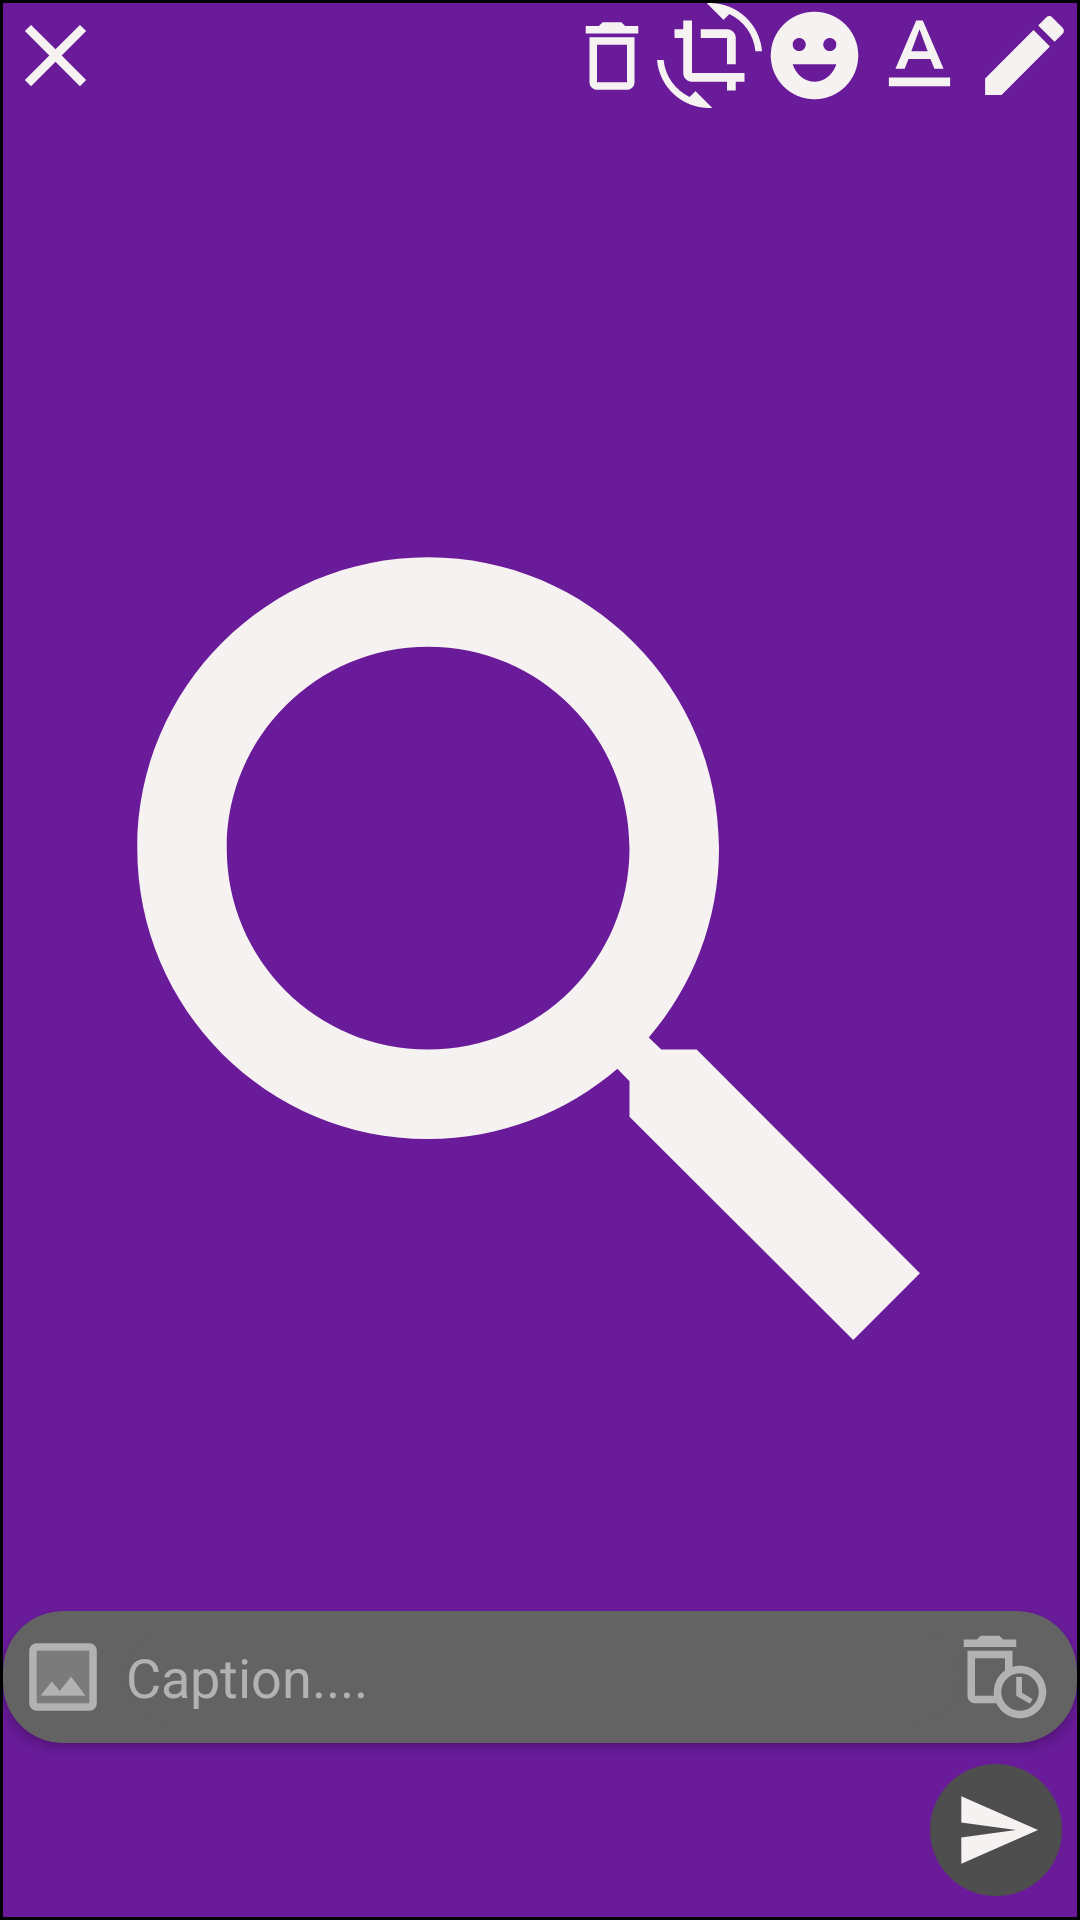

Screen size 1080 × 1920. Icon name, then its box in pixels as bbox=(x1, y1, x2, y2):
auto delete: bbox=(964, 1636, 1046, 1718)
close: bbox=(25, 25, 86, 86)
crop rotate: bbox=(657, 20, 745, 108)
delete: bbox=(585, 22, 639, 90)
edit: bbox=(985, 16, 1064, 95)
emoji emotions: bbox=(770, 11, 859, 100)
insert photo: bbox=(29, 1643, 97, 1711)
send: bbox=(930, 1764, 1062, 1896)
text format: bbox=(888, 20, 951, 87)
